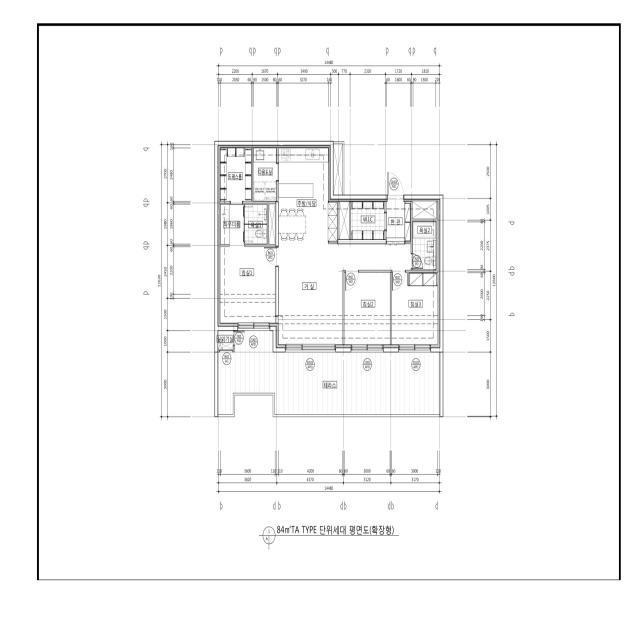space_bedroom: (218, 247, 275, 326), (392, 272, 440, 348), (344, 273, 390, 348)
space_dressroom: (218, 146, 252, 202), (218, 205, 244, 244)
space_front: (386, 199, 411, 244)
space_kitchen: (278, 146, 338, 245)
space_living_room: (276, 244, 411, 348)
space_multipurpose_space: (253, 146, 276, 202)
space_other: (351, 199, 385, 239), (333, 143, 343, 195), (413, 200, 437, 219), (339, 200, 349, 239), (271, 204, 278, 244)
space_outdoor_room: (218, 331, 233, 350)
space_toilet: (413, 222, 436, 270), (244, 204, 267, 244)
